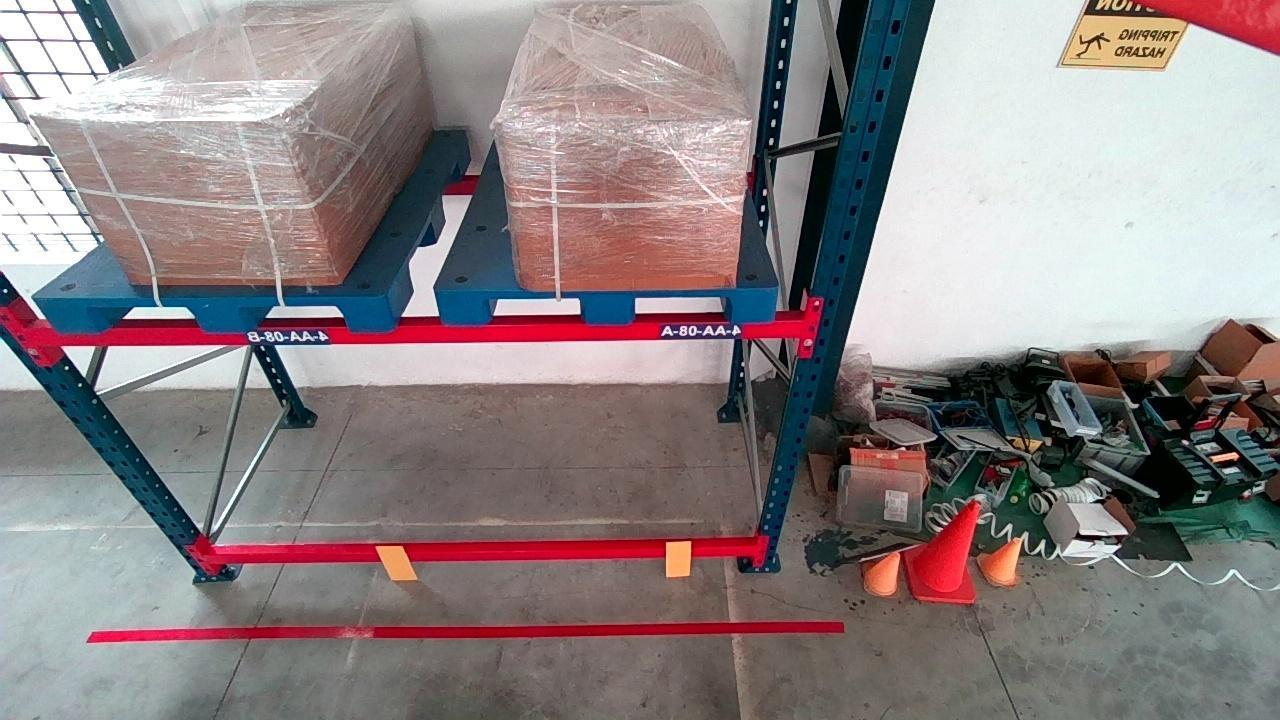h_rack: (211, 539, 751, 565), (37, 306, 393, 336)
orange_strip: (376, 543, 416, 581)
red_line: (88, 617, 845, 652)
small_pallet: (52, 294, 391, 333), (444, 287, 777, 324)
